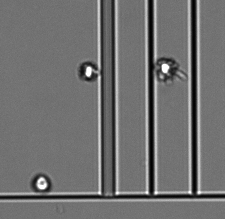Living Cell: (78, 61, 99, 82), (31, 172, 52, 193), (157, 58, 177, 79)
